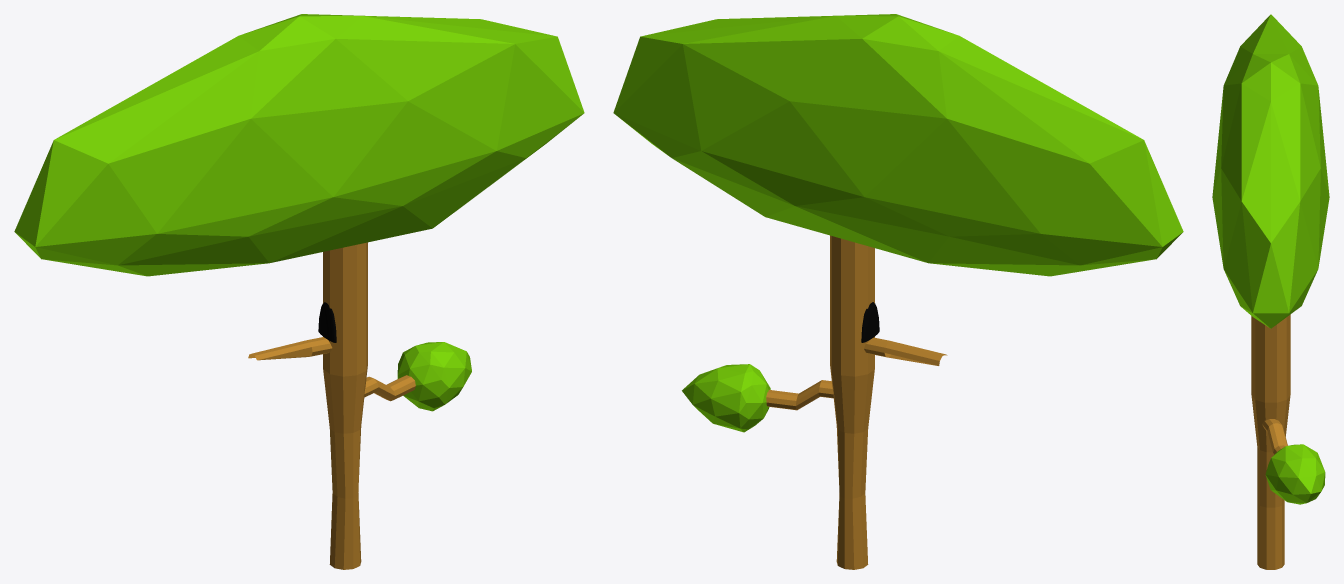
The model's file is Arbre_Ecureuil_vivant.fbx.
3 renders of one model, left to right at view 1: azimuth 30°, elevation 25°; view 2: azimuth 150°, elevation 25°; view 3: azimuth 270°, elevation 25°, orthographic. The views are drawn at different scales.
Visible parts, largest first — view 1: Icosphere, Cylinder, Icosphere_001, Cylinder_002, Cylinder_001; view 2: Icosphere, Cylinder, Icosphere_001, Cylinder_002, Cylinder_001; view 3: Icosphere, Cylinder, Icosphere_001, Cylinder_001.
Part boxes in pixels (left/top/right/bottom): Icosphere: left=14, top=14, right=584, bottom=276; Cylinder: left=323, top=242, right=367, bottom=569; Icosphere_001: left=397, top=342, right=471, bottom=411; Cylinder_002: left=248, top=337, right=332, bottom=360; Cylinder_001: left=364, top=375, right=415, bottom=401; Icosphere: left=613, top=14, right=1183, bottom=276; Cylinder: left=830, top=235, right=874, bottom=569; Icosphere_001: left=682, top=364, right=770, bottom=432; Cylinder_002: left=864, top=337, right=947, bottom=365; Cylinder_001: left=766, top=380, right=833, bottom=410; Icosphere: left=1212, top=14, right=1329, bottom=328; Cylinder: left=1251, top=314, right=1290, bottom=569; Icosphere_001: left=1265, top=444, right=1325, bottom=504; Cylinder_001: left=1262, top=419, right=1287, bottom=454.
Bounding box in the file's own units: 20.08 × 19.49 × 4.29.
